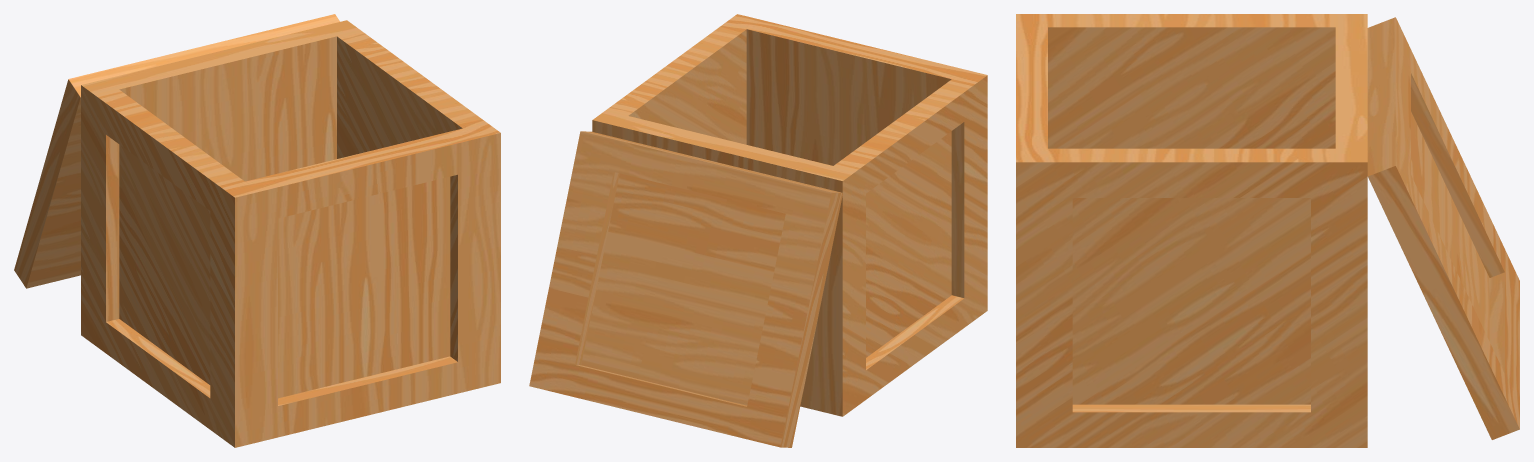
Rendered from Crate_Model.fbx.
3 views of the same model, side by side, from view 1: azimuth 30°, elevation 25°; view 2: azimuth 150°, elevation 25°; view 3: azimuth 270°, elevation 25° (orthographic). The views are drawn at different scales.
Parts seen in each view (by area): view 1: Crate_Model; view 2: Crate_Model; view 3: Crate_Model.
Boxes of the visible parts, x1=… form: Crate_Model: x1=14, y1=14, x2=500, y2=447; Crate_Model: x1=529, y1=14, x2=987, y2=447; Crate_Model: x1=1016, y1=14, x2=1519, y2=447.
Size of the model in its own units: 1.12 by 1 by 1.6.
Materials: 1 (1 with a texture image).
